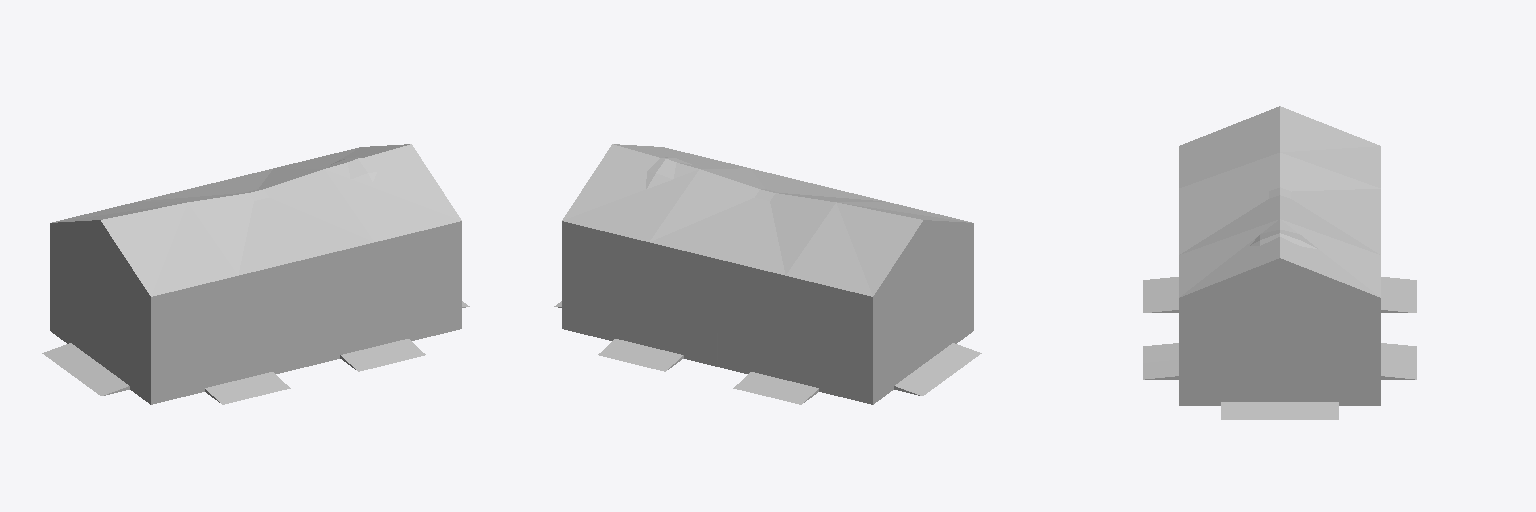
The model's file is house.obj.
The picture shows the model from 3 angles: view 1: azimuth 30°, elevation 25°; view 2: azimuth 150°, elevation 25°; view 3: azimuth 270°, elevation 25°; orthographic projection.
Visible parts, largest first — view 1: bigWarehouse_MeshCollider, bigWarehouse_Ramps, bigWarehouse; view 2: bigWarehouse_MeshCollider, bigWarehouse_Ramps, bigWarehouse; view 3: bigWarehouse_MeshCollider, bigWarehouse_Ramps, bigWarehouse.
Boxes of the visible parts, x1=… form: bigWarehouse_MeshCollider: x1=50, y1=144, x2=461, y2=404; bigWarehouse_Ramps: x1=42, y1=301, x2=469, y2=404; bigWarehouse: x1=245, y1=157, x2=376, y2=366; bigWarehouse_MeshCollider: x1=562, y1=144, x2=973, y2=404; bigWarehouse_Ramps: x1=554, y1=301, x2=981, y2=404; bigWarehouse: x1=646, y1=157, x2=778, y2=366; bigWarehouse_MeshCollider: x1=1179, y1=106, x2=1380, y2=405; bigWarehouse_Ramps: x1=1143, y1=277, x2=1416, y2=419; bigWarehouse: x1=1250, y1=187, x2=1317, y2=248.
Size of the model in its own units: 21.71 by 8.32 by 14.01.